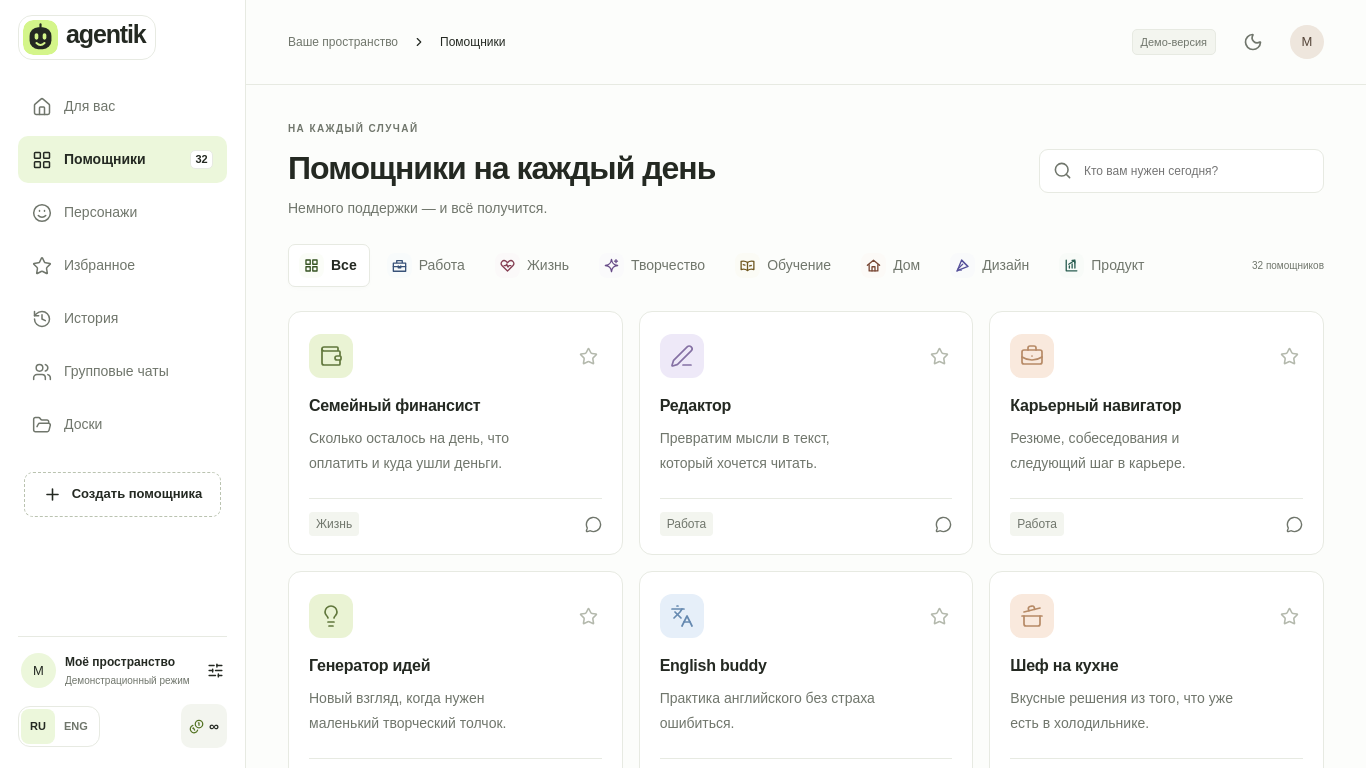
Test: sends a demo request and saves it to history
Click the link with aria-label "Открыть: Редактор".
click(806, 466)  # box [640,378,972,554]
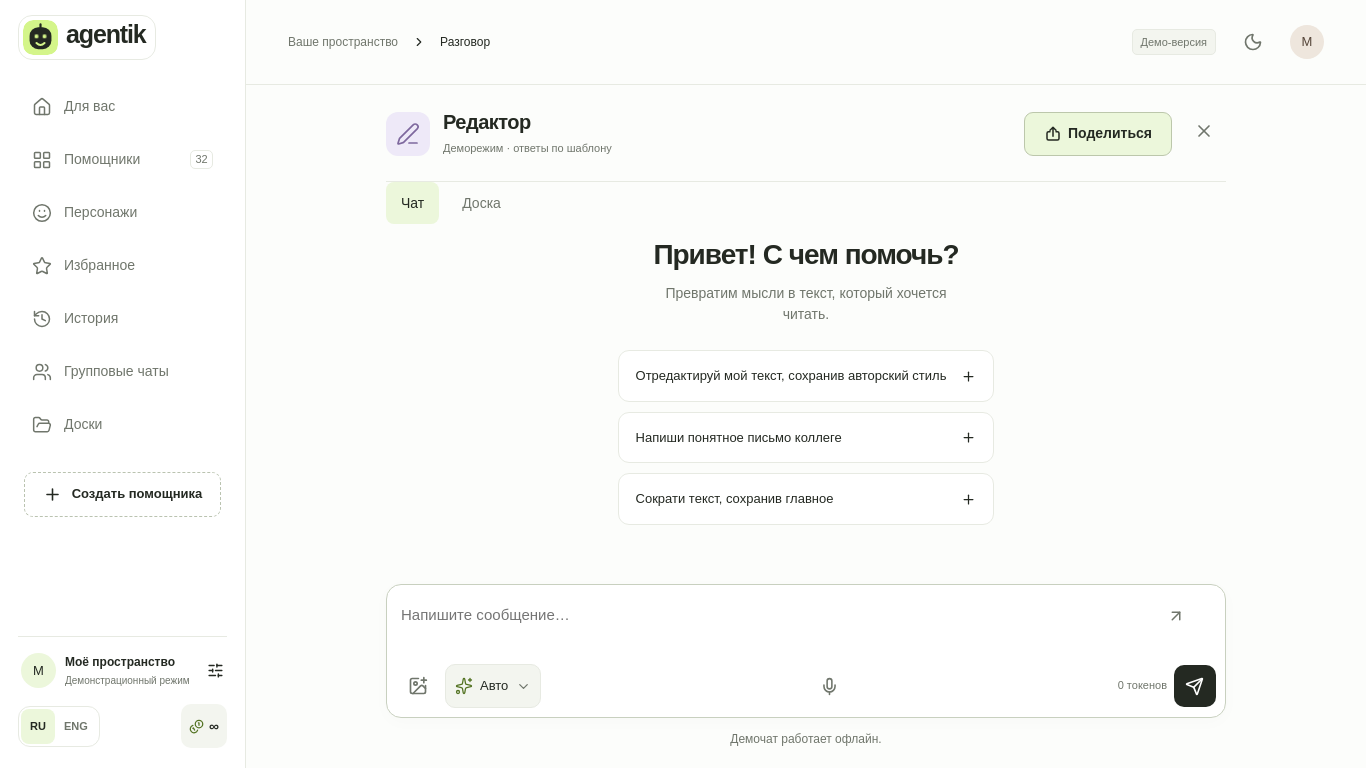
Type "Помоги написать письмо" into the text box named "Ваше сообщение".
click(806, 626); type("Помоги написать письмо")  # box [396,594,1216,659]
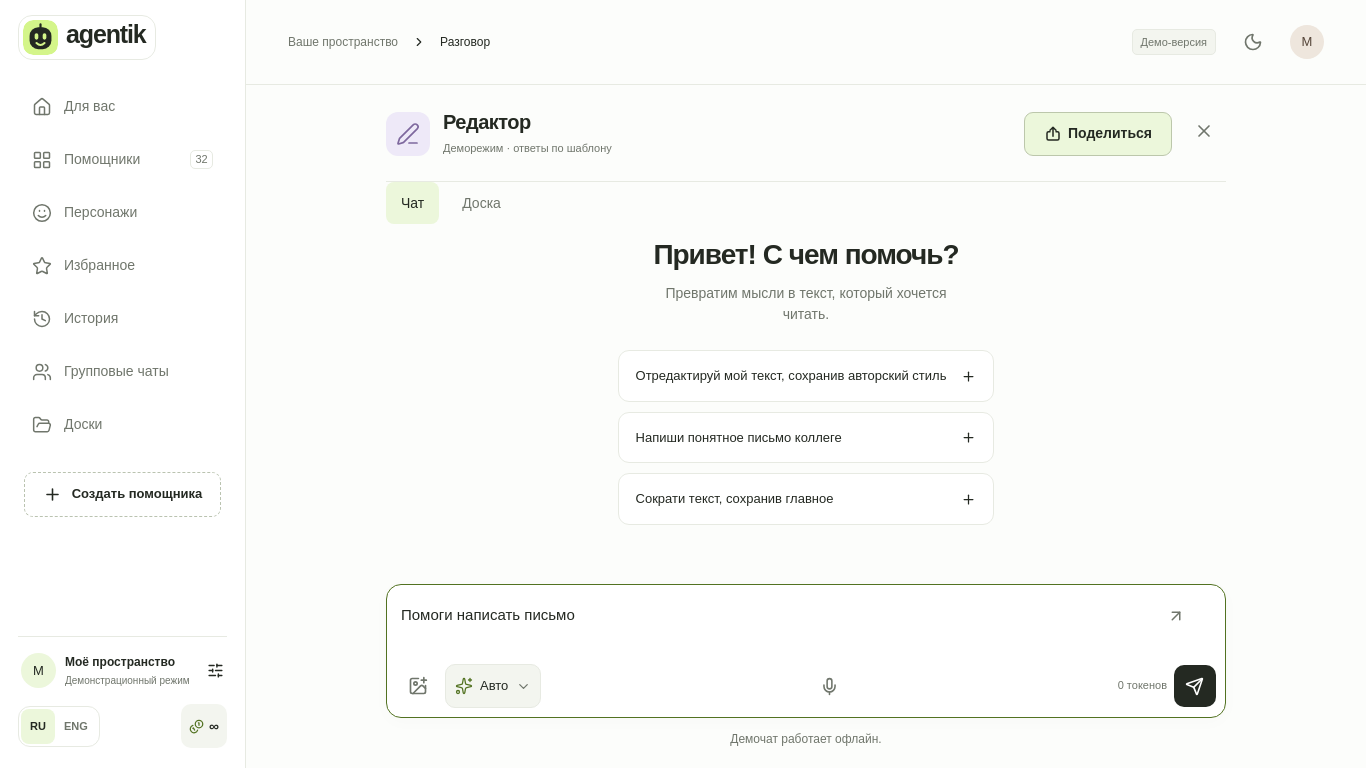
Click the button named "Отправить сообщение".
click(1195, 686)  # box [1174,665,1216,707]
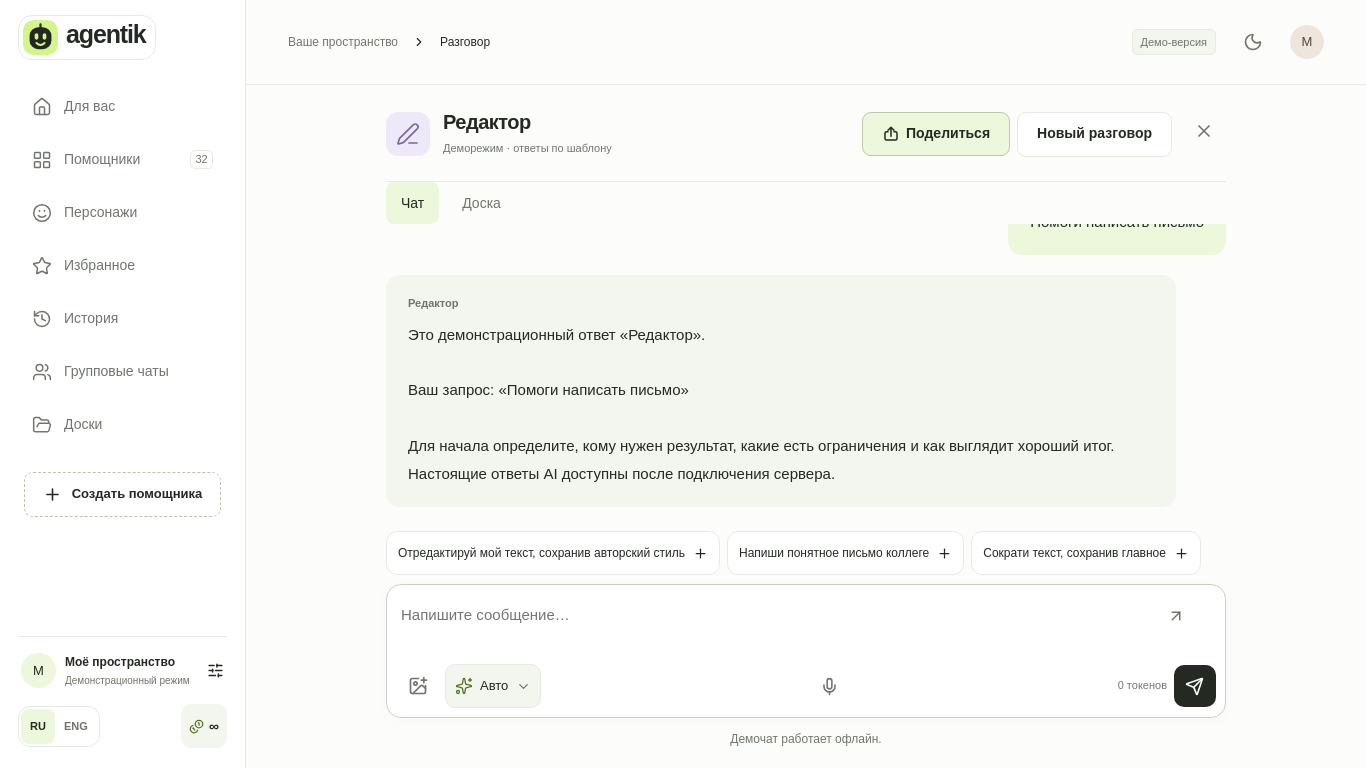
expect the text "Это демонстрационный ответ" is shown: met, box [408,326,1119,482]
Click the link "История".
click(75, 318)  # box [32,308,118,328]
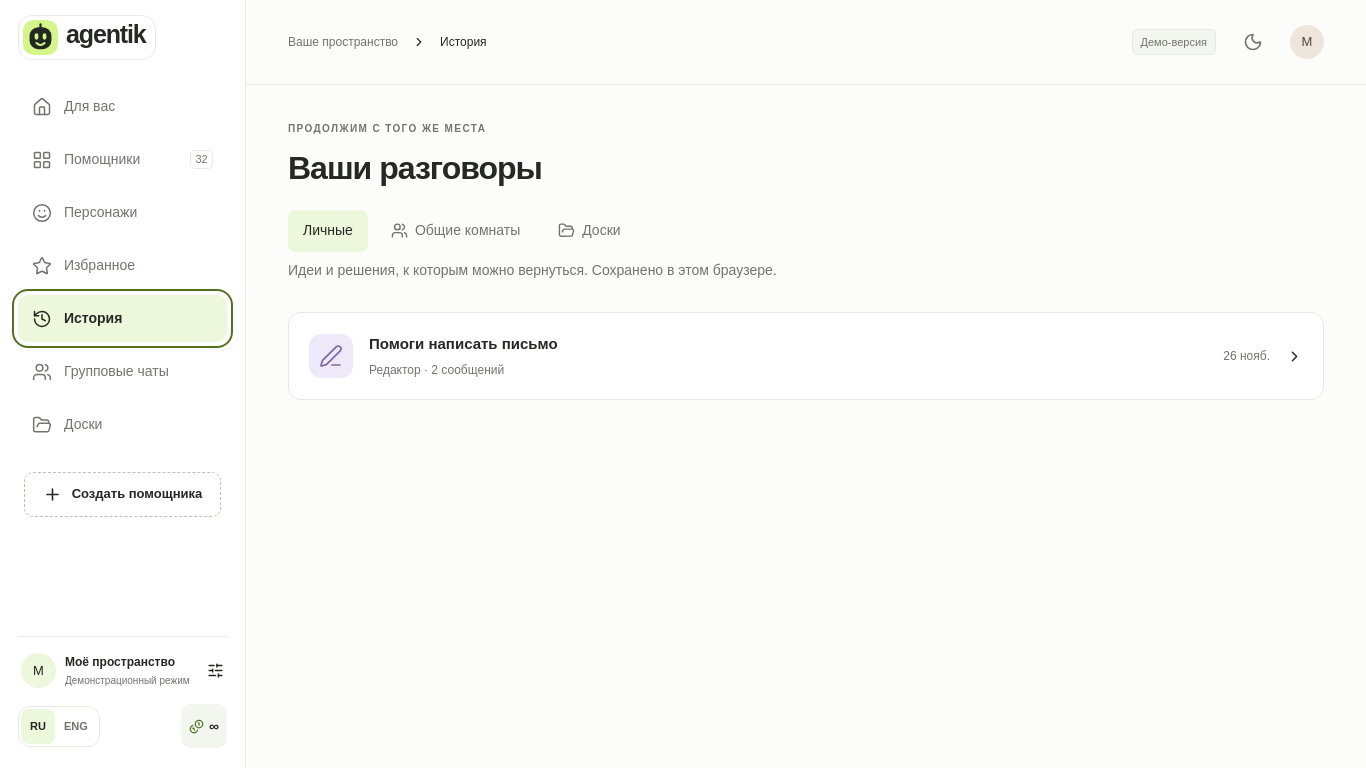
expect the link "Помоги написать письмо Редактор · 2 сообщений 26 нояб." is shown: met, box [288,312,1324,400]
